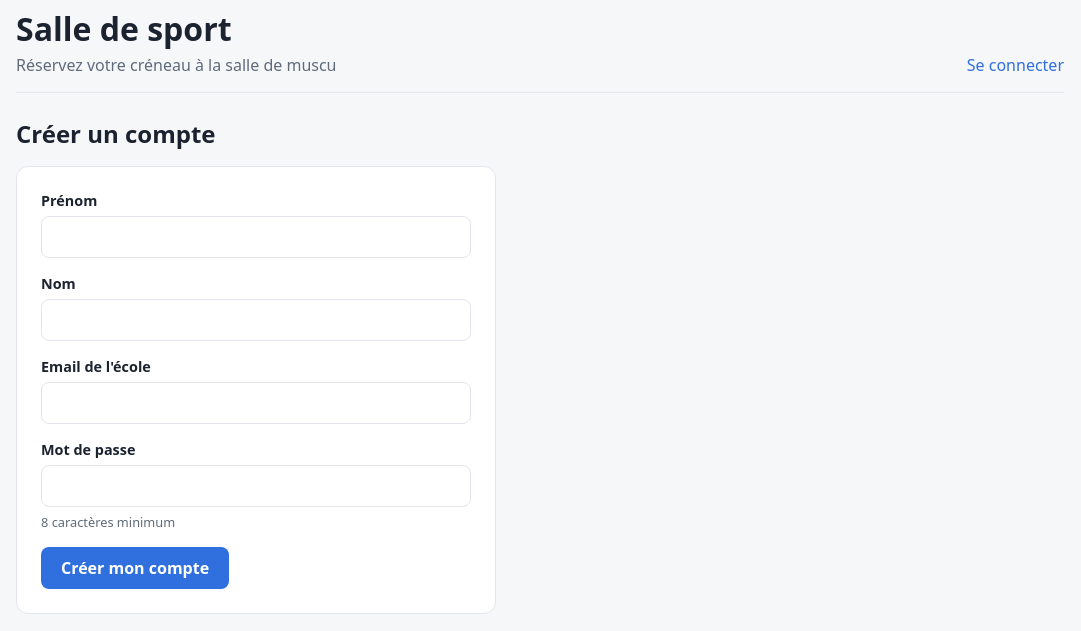
Scenario: RegisterPage › goes to the planning once the account is created, and keeps the token
This screenshot has width=1081, height=631.
Type "Chloé" into the field labelled "Prénom" at (256, 237), box [41,216,471,258]
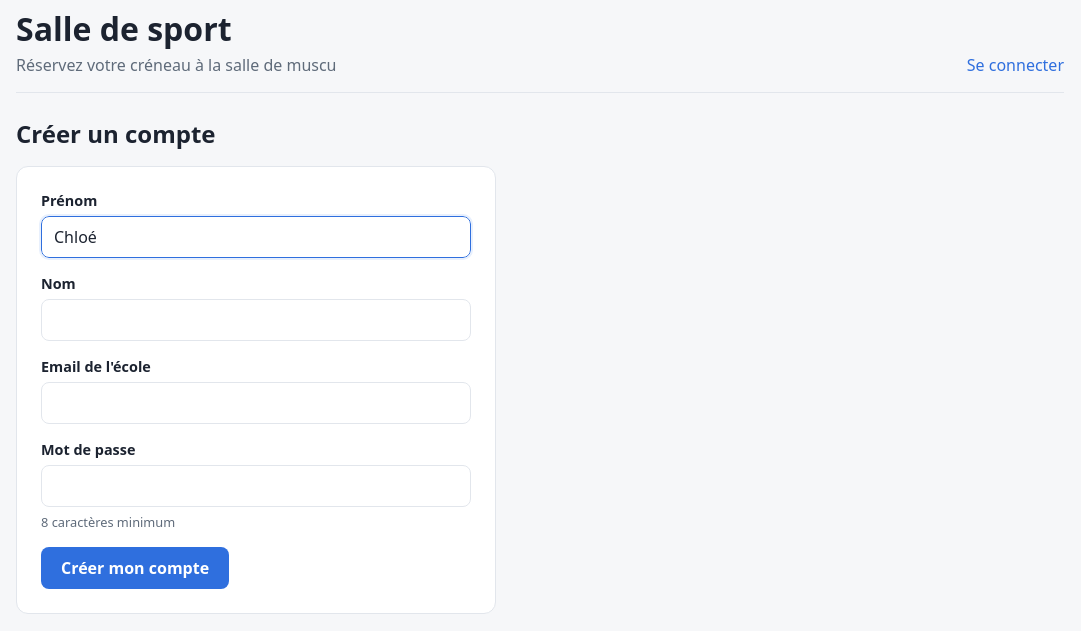
Type "Petit" into the field labelled "Nom" at (256, 320), box [41,299,471,341]
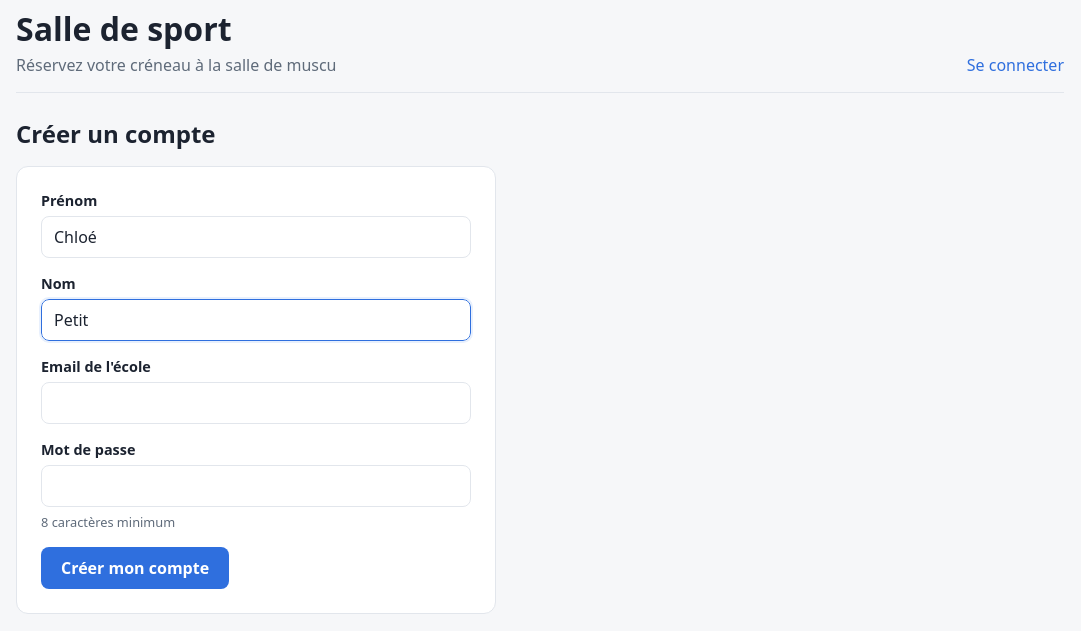
Type "chloe.petit@castelmont.fr" into the field labelled "Email de l'école" at (256, 403), box [41,382,471,424]
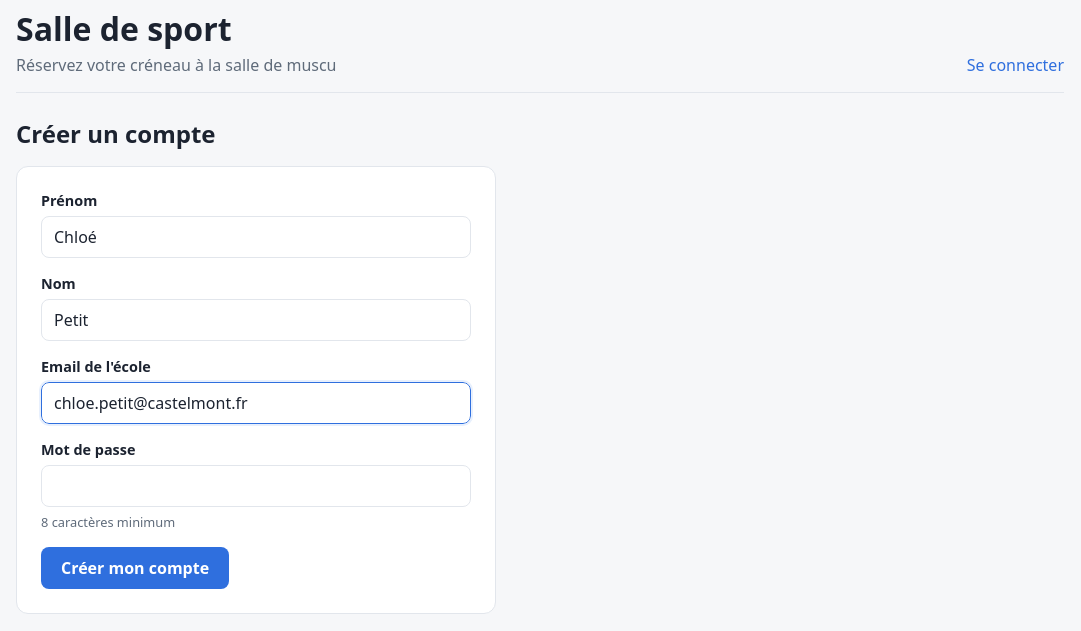
Type "correct-horse" into the password field labelled "Mot de passe" at (256, 486), box [41,465,471,507]
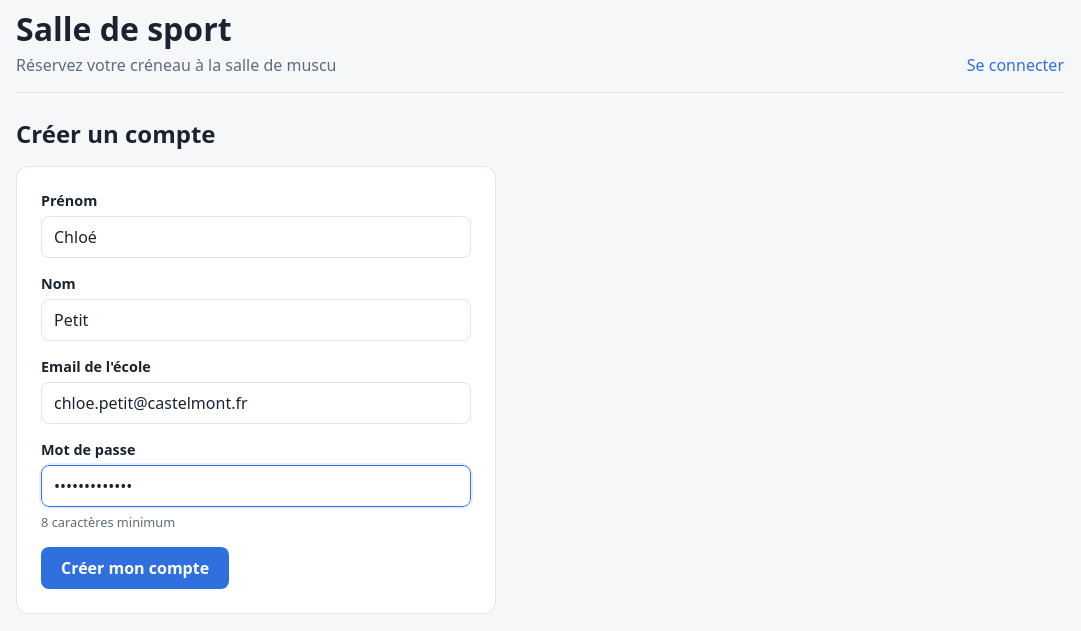
Click the button "Créer mon compte" at (135, 568), box [41,547,229,589]
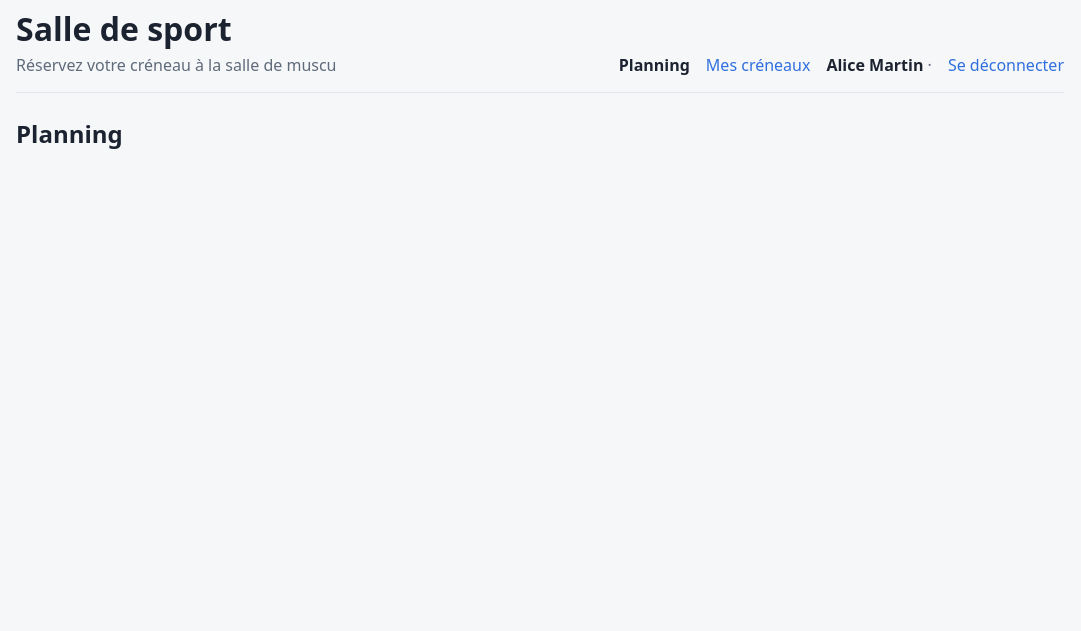
Now the heading "Planning" is shown, box [16,117,123,150]
